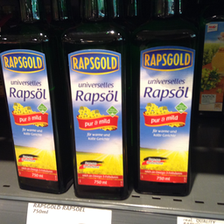oil: (60, 1, 132, 201), (1, 1, 72, 195), (131, 1, 198, 197)
